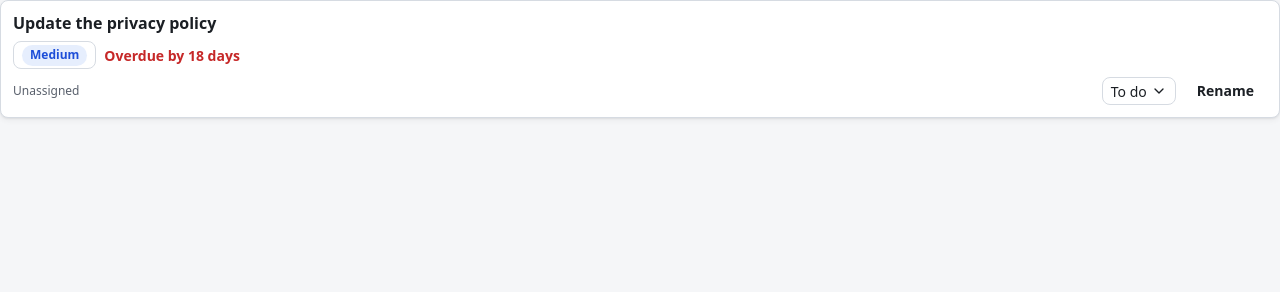
Test: Escape closes the menu and returns focus to its button
The image size is (1280, 292).
Click the button with aria-label "Status: To do" at (1139, 91), box x1=1102 y1=77 x2=1176 y2=105
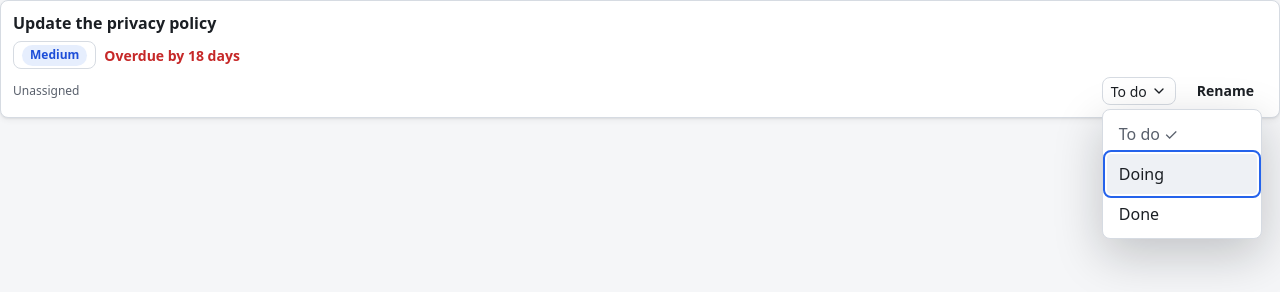
expect the menu is shown: met, box x1=1102 y1=109 x2=1262 y2=239
Press Escape
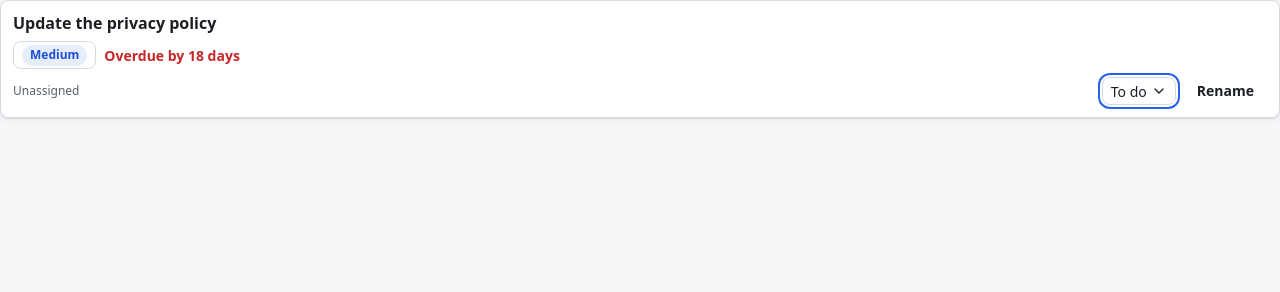
expect the menu is gone: met
